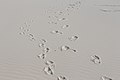human_foot_print: (61, 44, 82, 54), (87, 52, 102, 63), (39, 46, 50, 60), (44, 62, 54, 76), (98, 73, 114, 80), (50, 30, 64, 36), (70, 32, 80, 40), (26, 34, 37, 40), (42, 36, 48, 46), (62, 23, 72, 29), (60, 16, 67, 22)
